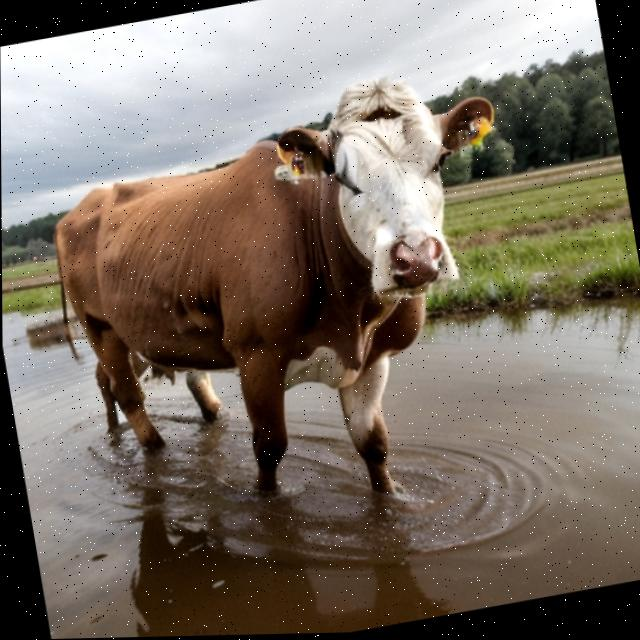cow: (16, 45, 574, 572)
